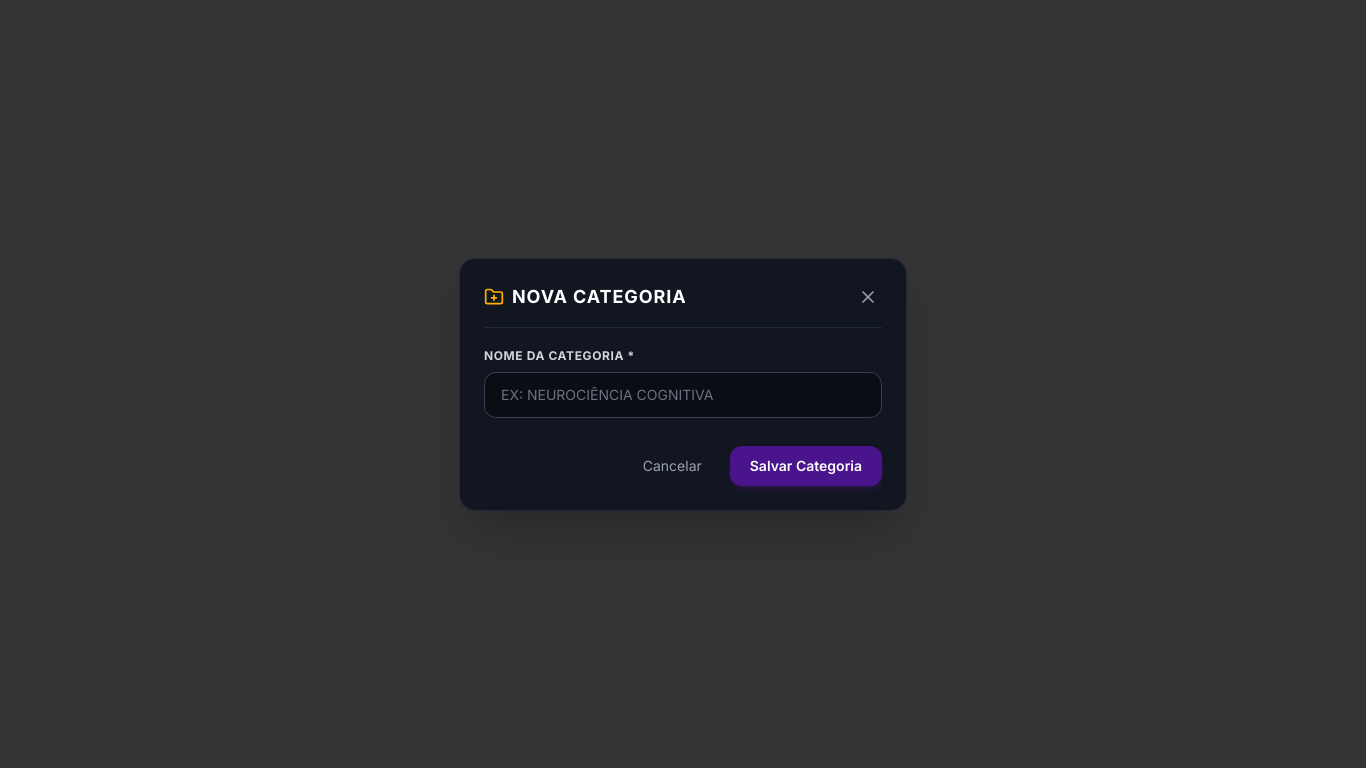
Test case: Modais Auxiliares do Blog › CategoryModal.vue › deve exibir mensagem de erro se a criação falhar
The width and height of the screenshot is (1366, 768).
In the field with test id "input-category-name": point(683, 394) [484,372,882,418], type "Neurociência"
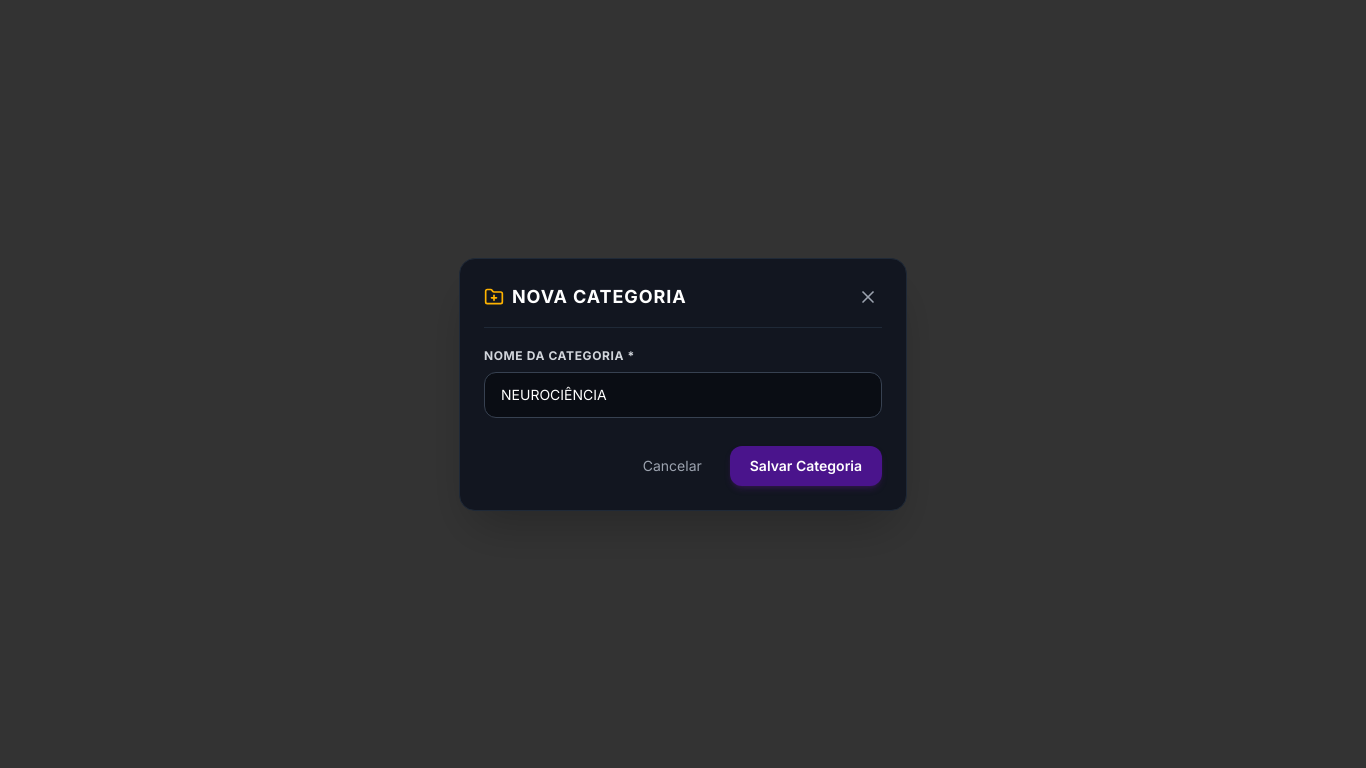
Submit the form, box [484,348,882,486]
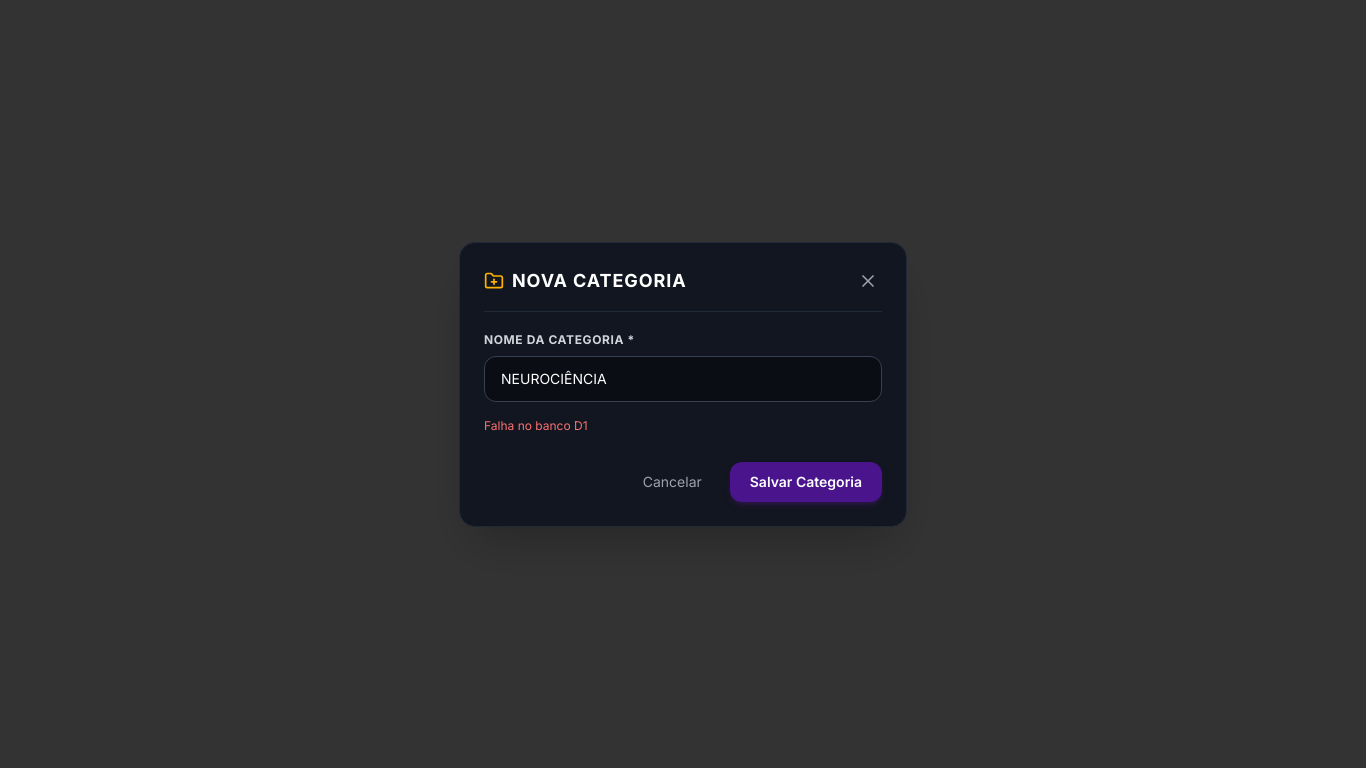
Expected: the text with test id "category-error" reads "Falha no banco D1", [484,418,588,432]
